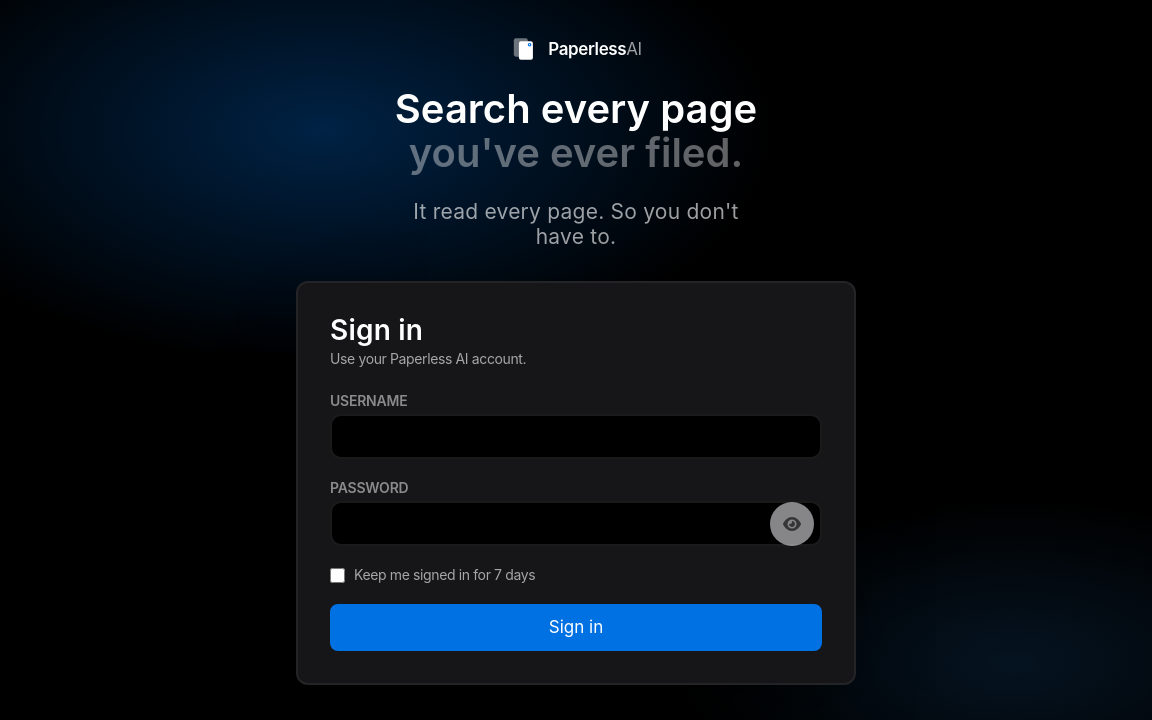
LoginScreen › shows a password validation error when shorter than 12 characters
This screenshot has width=1152, height=720.
In the field named "Username": (576, 437) [330,414,822,459], type "alex.morgan"
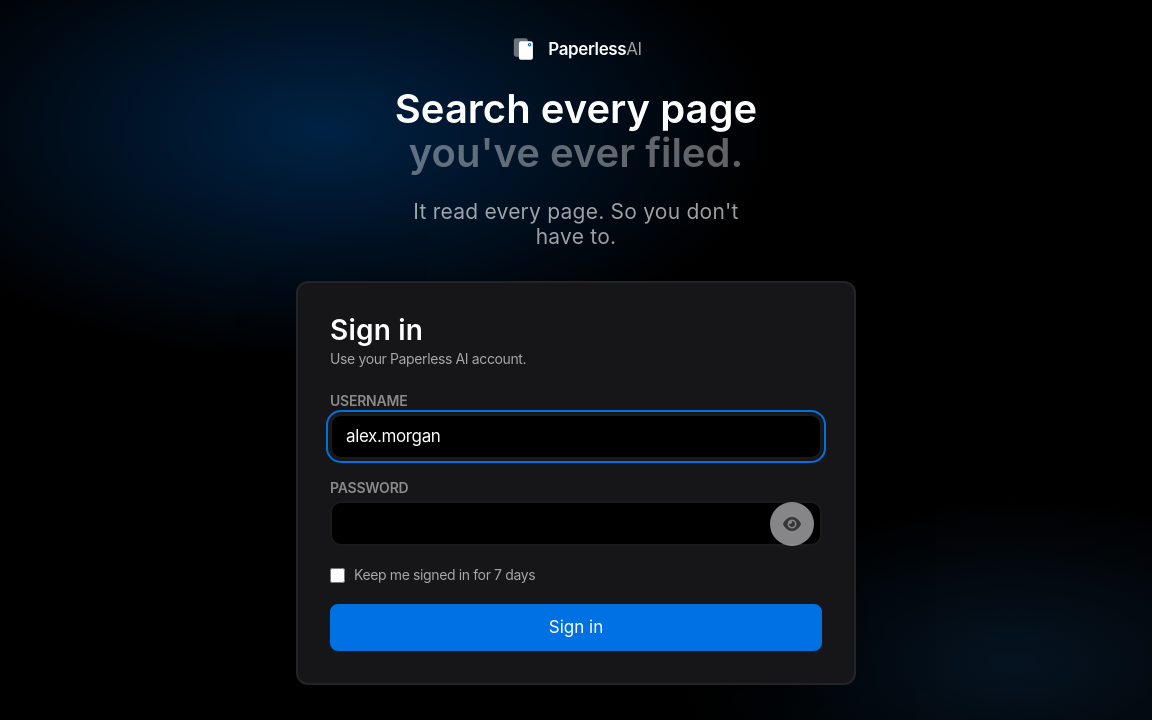
In the password field named "Password": (576, 524) [330,501,822,546], type "tooshort123"
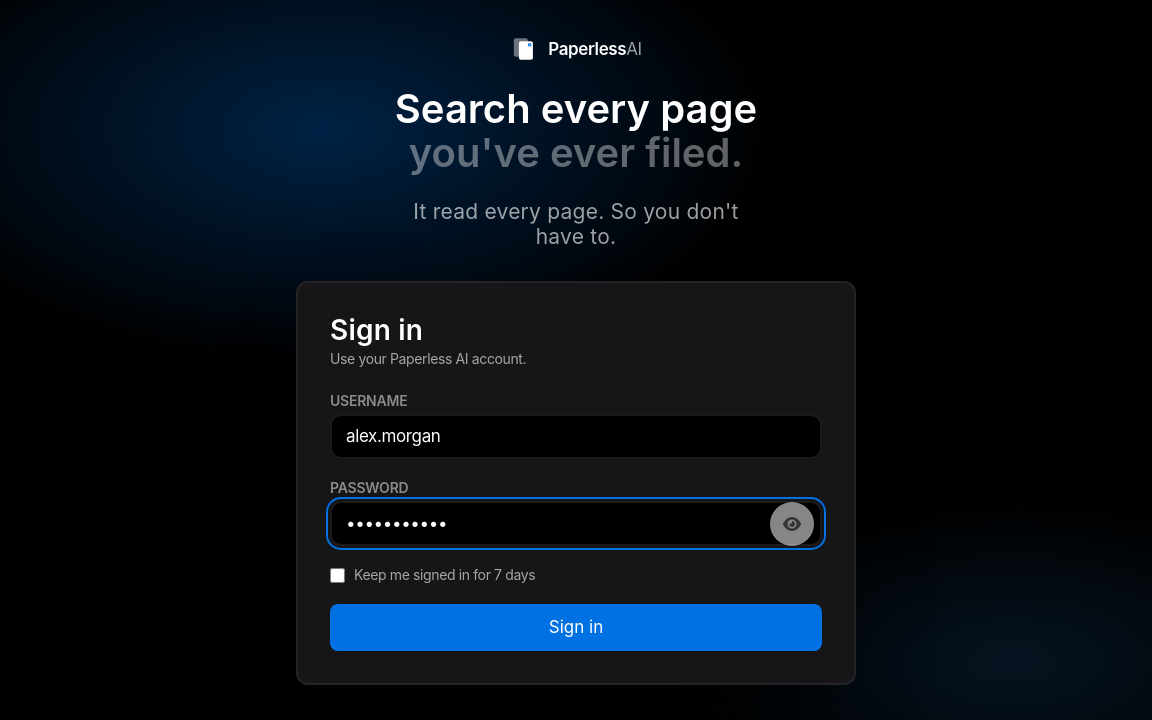
Click the button named "sign in": (576, 628) [330,604,822,651]
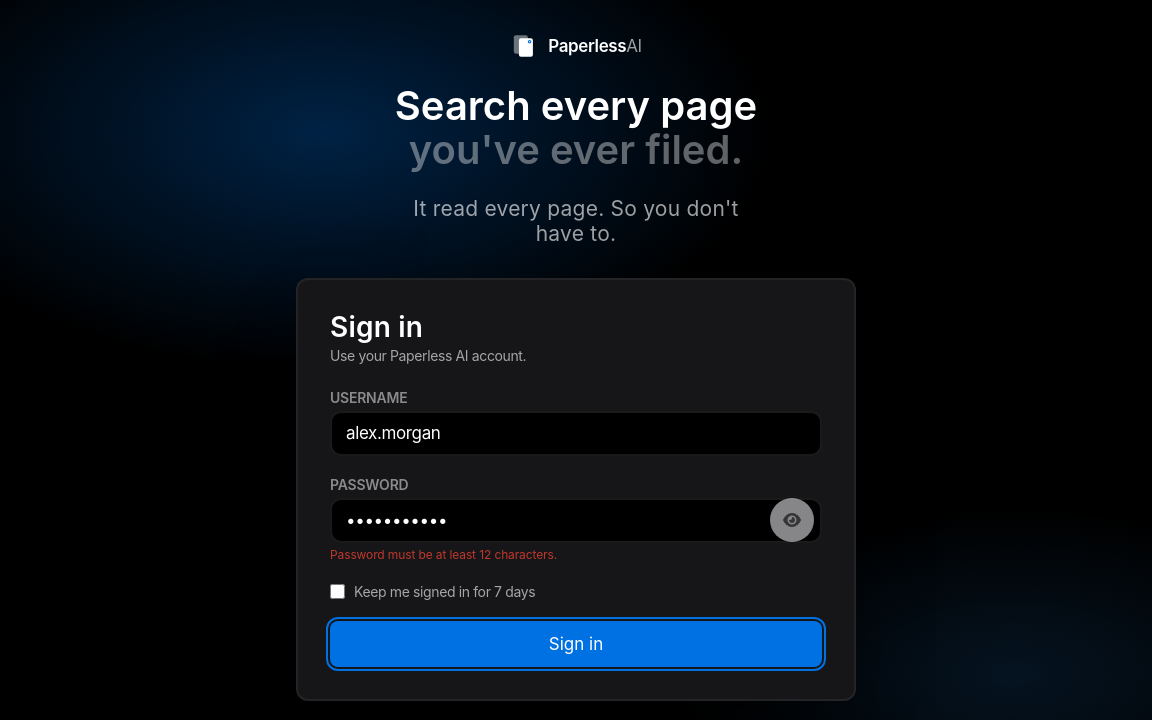
expect the text "at least 12 characters" is shown: met, box [330,547,557,562]
